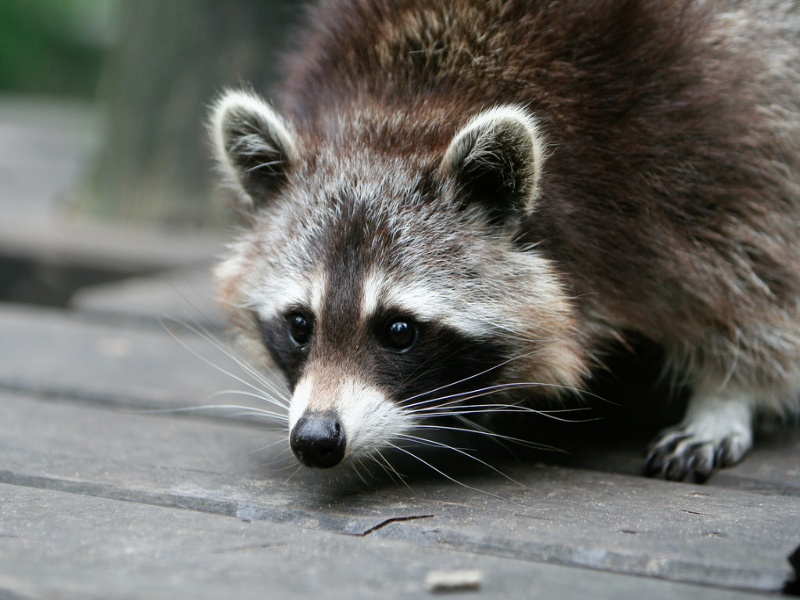raccoon: (201, 3, 800, 495)
